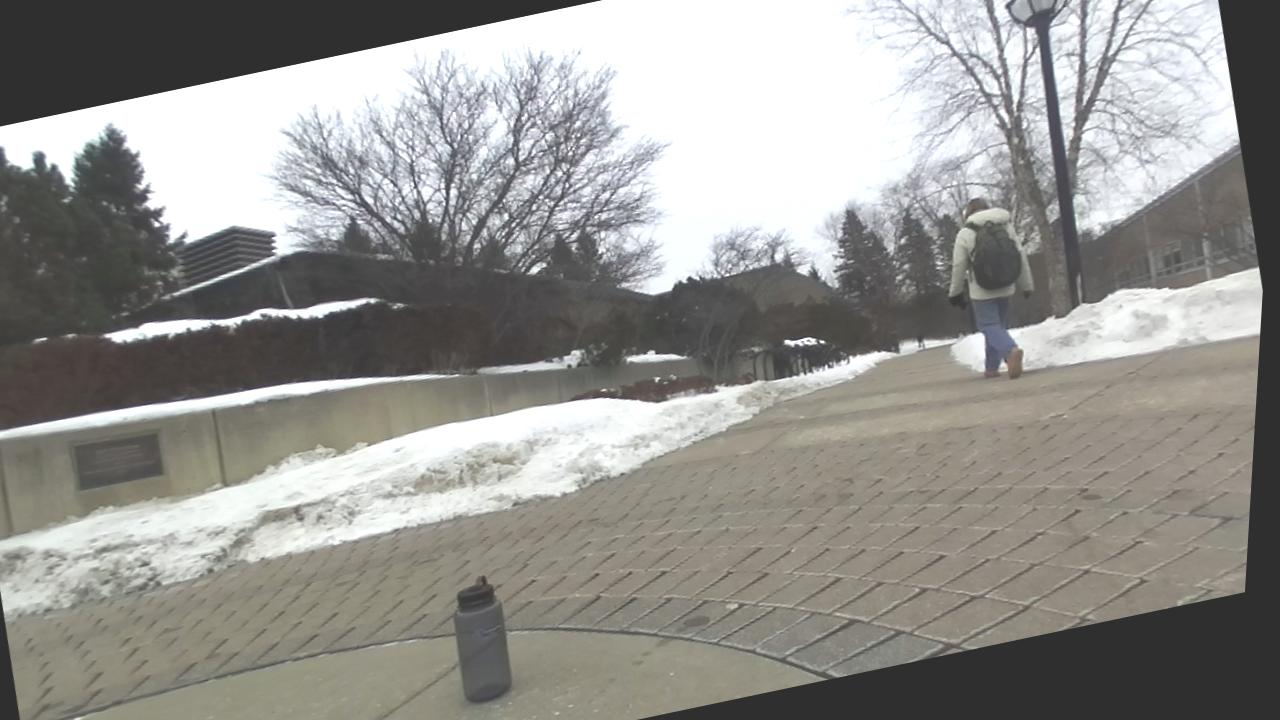bottle: (453, 576, 511, 702)
